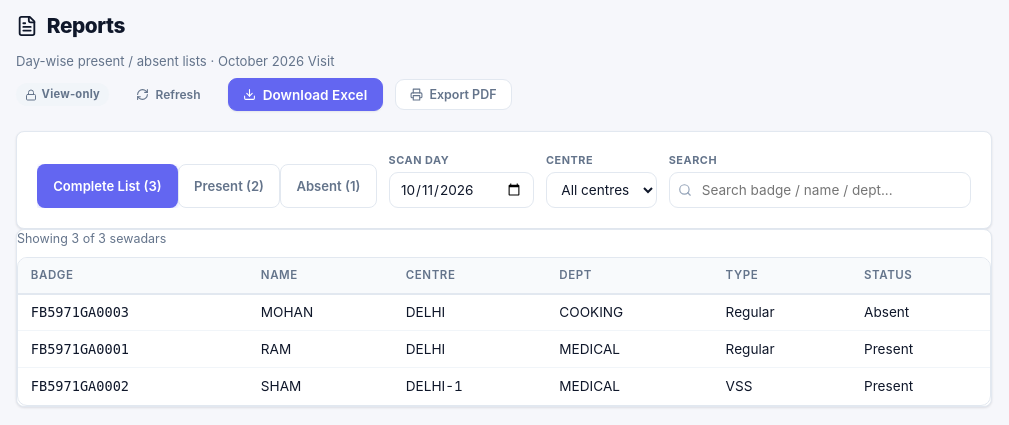
ReportsPage — tabs carry a Status column › keeps the Status column on the Present and Absent tabs
The image size is (1009, 425).
Click the tab "Present (2)" at (229, 186), box [178,164,280,208]
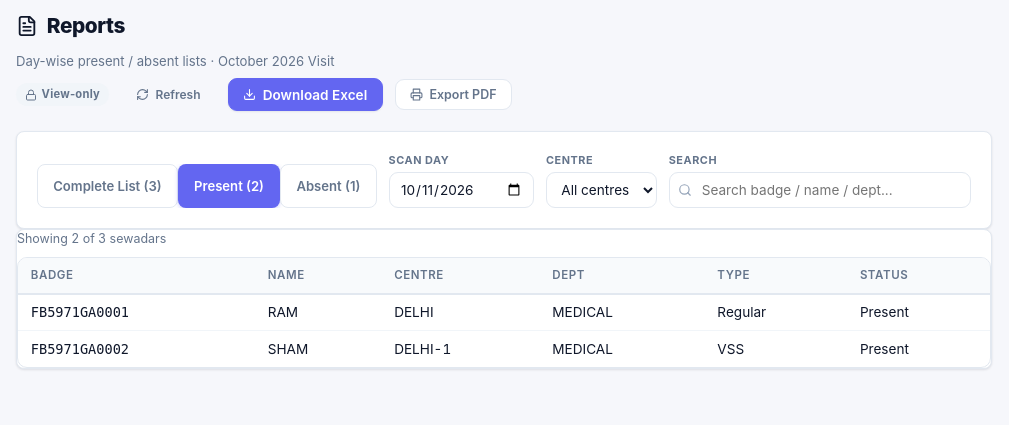
Click the tab "Absent (1)" at (328, 186), box [280,164,376,208]
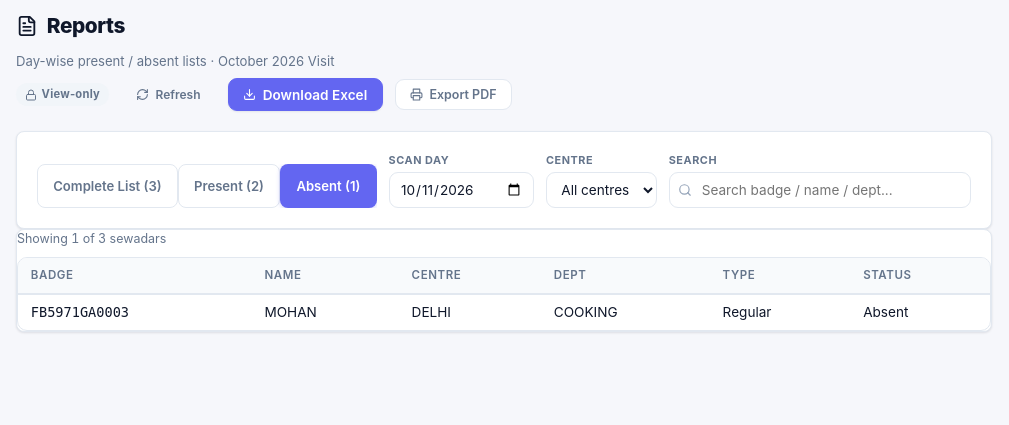
Now the row "FB5971GA0003 MOHAN DELHI COOKING Regular Absent" is shown, box [18,294,990,330]
